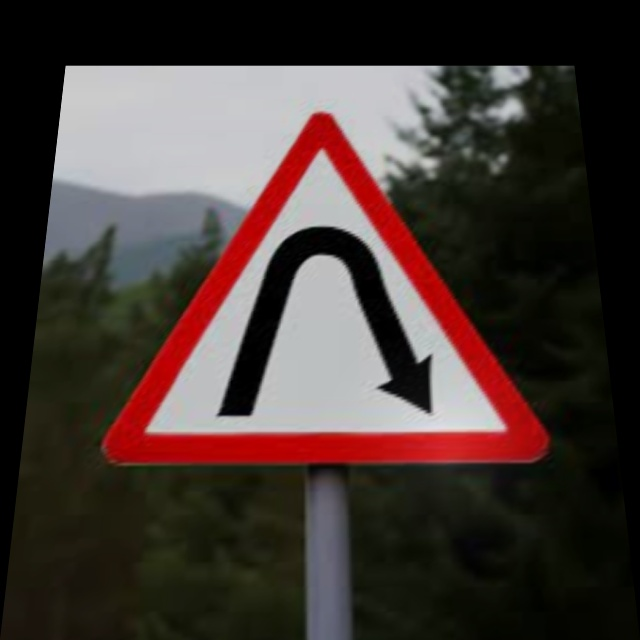Right_Hair_Pin_Bend: (105, 112, 542, 457)
